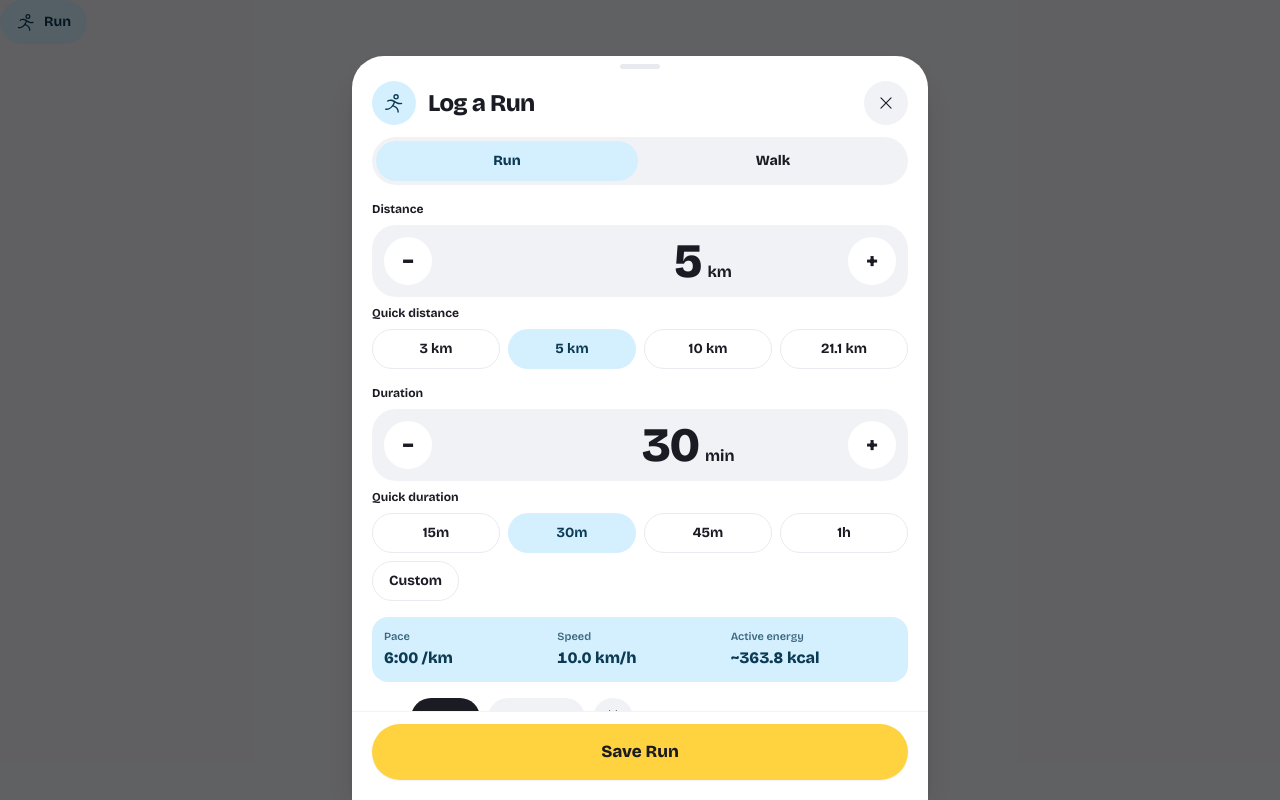
Scenario: RunLogger › handles OfflineError on submit
The width and height of the screenshot is (1280, 800).
Click the button "Save Run".
click(640, 752)  # box [372, 724, 908, 780]
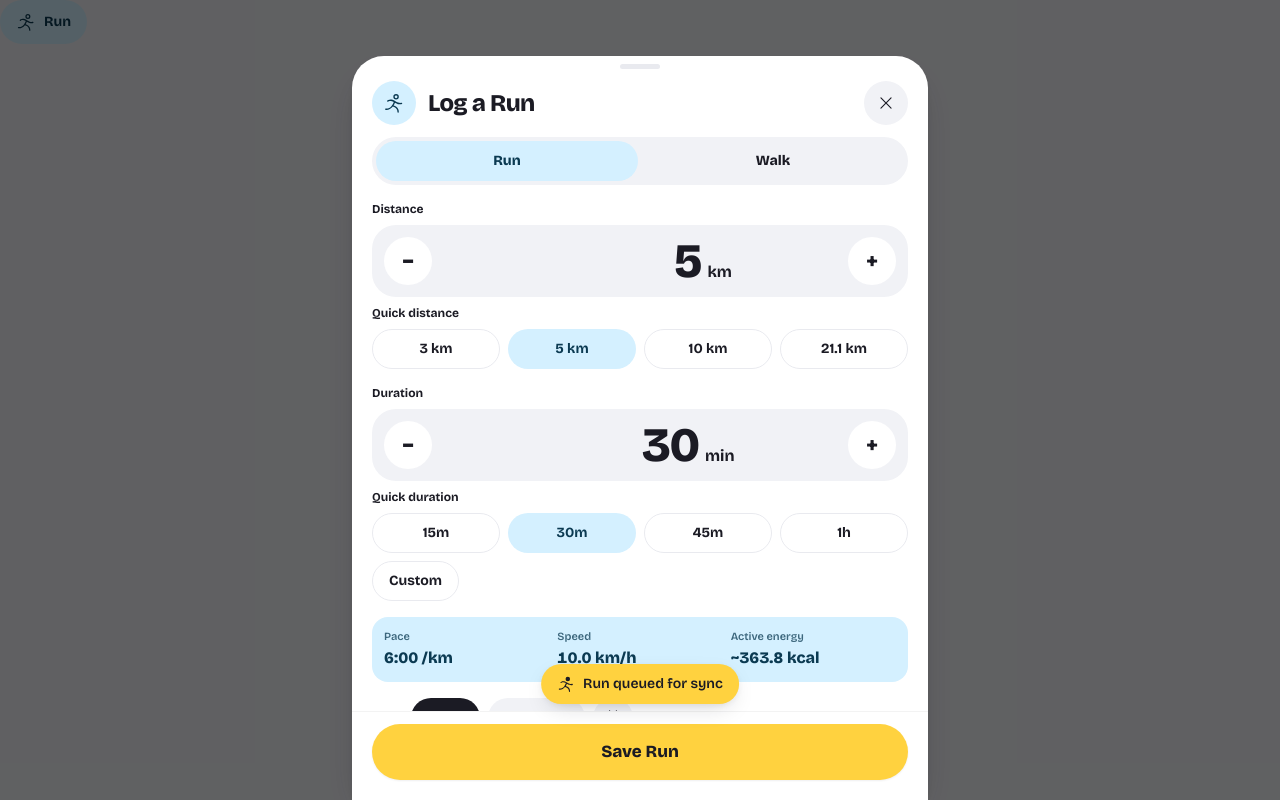
Check: the text "Run queued for sync" is shown, box [541, 664, 739, 704]
